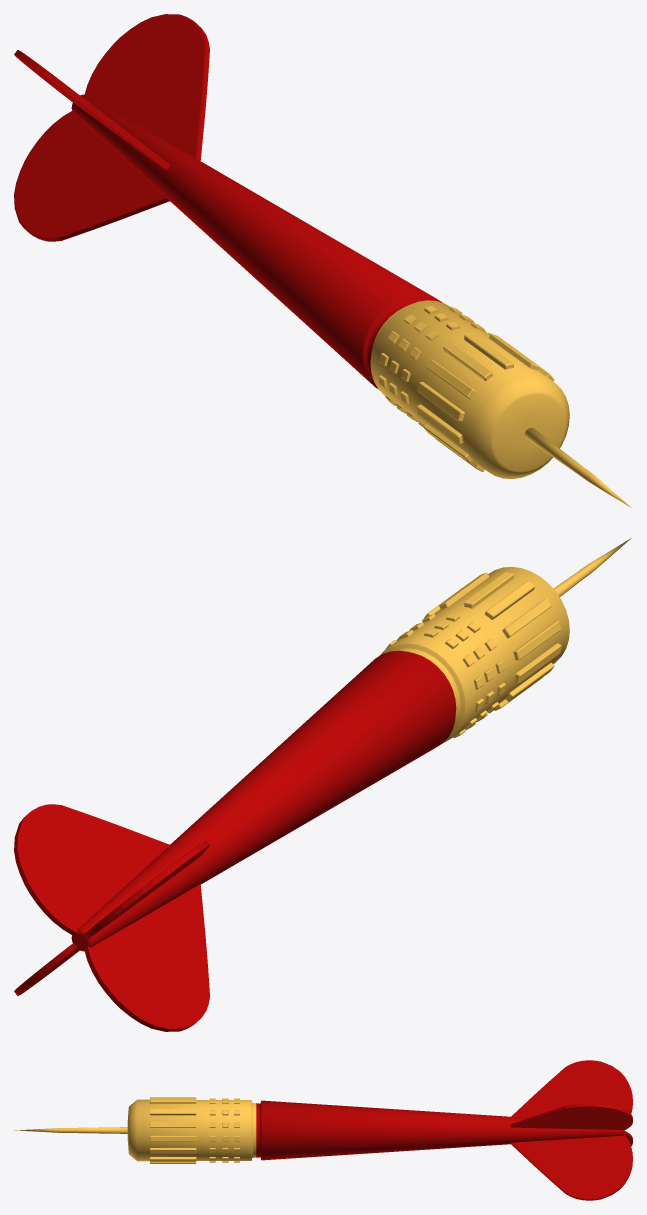
Rendered from Dart.fbx.
The picture shows the model from 3 angles, top to bottom: view 1: azimuth 30°, elevation 25°; view 2: azimuth 150°, elevation 25°; view 3: azimuth 270°, elevation 25°; orthographic projection. The views are drawn at different scales.
Visible parts, largest first — view 1: Dart; view 2: Dart; view 3: Dart.
Part boxes in pixels (x1=…): Dart: x1=14, y1=14, x2=631, y2=507; Dart: x1=14, y1=538, x2=631, y2=1031; Dart: x1=14, y1=1060, x2=632, y2=1200.
Bounding box in the file's own units: 3.28 × 3.28 × 18.95.
